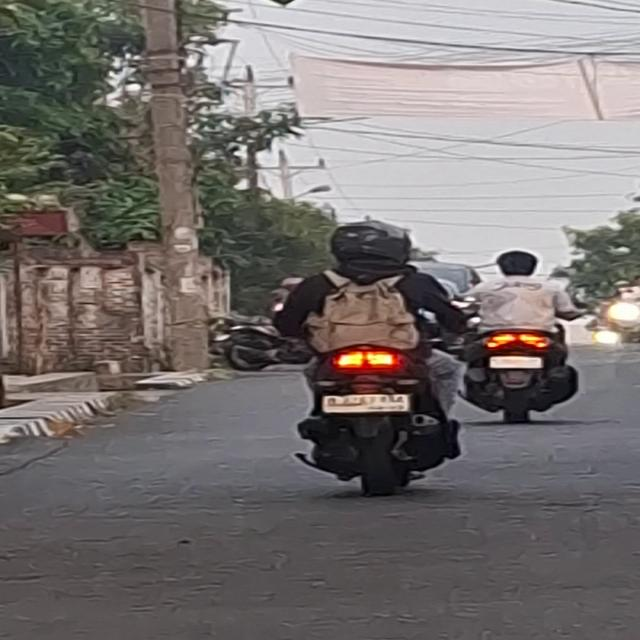WithHelmet: (270, 220, 477, 436), (460, 249, 590, 375)
